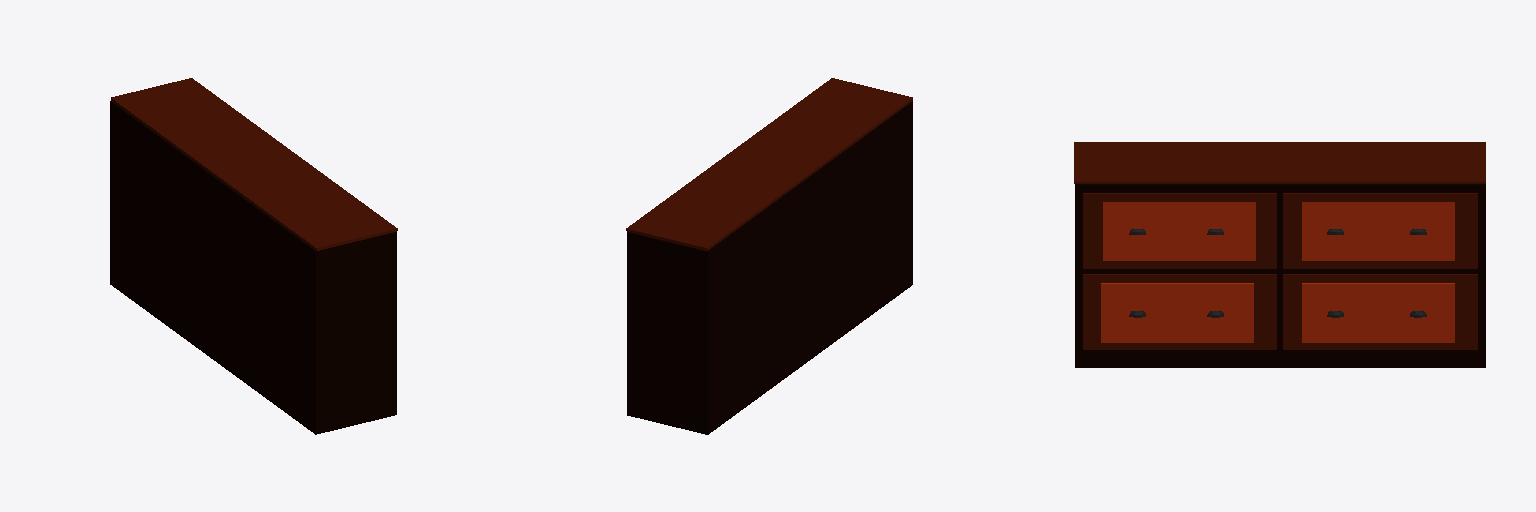
File: dresser.obj
The picture shows the model from 3 angles: view 1: azimuth 30°, elevation 25°; view 2: azimuth 150°, elevation 25°; view 3: azimuth 270°, elevation 25°; orthographic projection.
Parts seen in each view (by area): view 1: dresser_body_Cube.006, dresser_top_Cube.012; view 2: dresser_body_Cube.006, dresser_top_Cube.012; view 3: dresser_top_Cube.012, dresser_body_Cube.006, dresser_drawer_3_front_Cube.011, dresser_drawer_4_front_Cube.010, dresser_drawer_1_front_Cube.008, dresser_drawer_2_front_Cube.009, dresser_drawer_2_Cube.005, dresser_drawer_1_Cube.007, dresser_drawer_4_Cube.002, dresser_drawer_3_Cube.003.
Part boxes in pixels (bbox=[...]): dresser_body_Cube.006: bbox=[110, 101, 396, 434]; dresser_top_Cube.012: bbox=[111, 78, 397, 250]; dresser_body_Cube.006: bbox=[627, 101, 912, 434]; dresser_top_Cube.012: bbox=[626, 78, 912, 250]; dresser_top_Cube.012: bbox=[1074, 142, 1485, 183]; dresser_body_Cube.006: bbox=[1075, 184, 1485, 367]; dresser_drawer_3_front_Cube.011: bbox=[1101, 283, 1253, 342]; dresser_drawer_4_front_Cube.010: bbox=[1302, 283, 1454, 342]; dresser_drawer_1_front_Cube.008: bbox=[1103, 202, 1255, 260]; dresser_drawer_2_front_Cube.009: bbox=[1302, 202, 1454, 260]; dresser_drawer_2_Cube.005: bbox=[1283, 193, 1477, 268]; dresser_drawer_1_Cube.007: bbox=[1083, 193, 1276, 268]; dresser_drawer_4_Cube.002: bbox=[1283, 274, 1477, 349]; dresser_drawer_3_Cube.003: bbox=[1083, 274, 1276, 349].
Bounding box in the file's own units: 1.02 × 2.12 × 4.24.